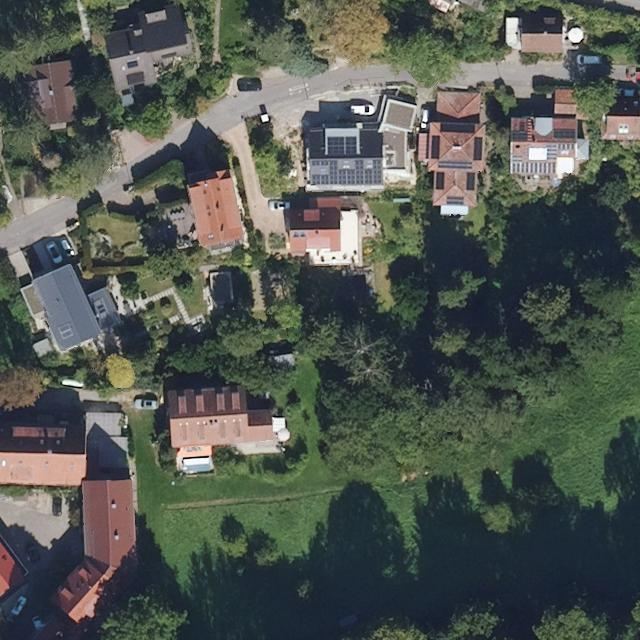PV: (311, 159, 383, 186), (510, 156, 556, 178), (328, 136, 356, 156), (546, 138, 575, 157), (437, 160, 473, 170), (440, 123, 475, 133), (511, 128, 532, 141), (58, 324, 74, 340), (553, 128, 576, 139), (446, 194, 466, 206), (430, 135, 440, 159), (473, 138, 482, 160), (466, 172, 475, 191), (435, 172, 444, 190)
